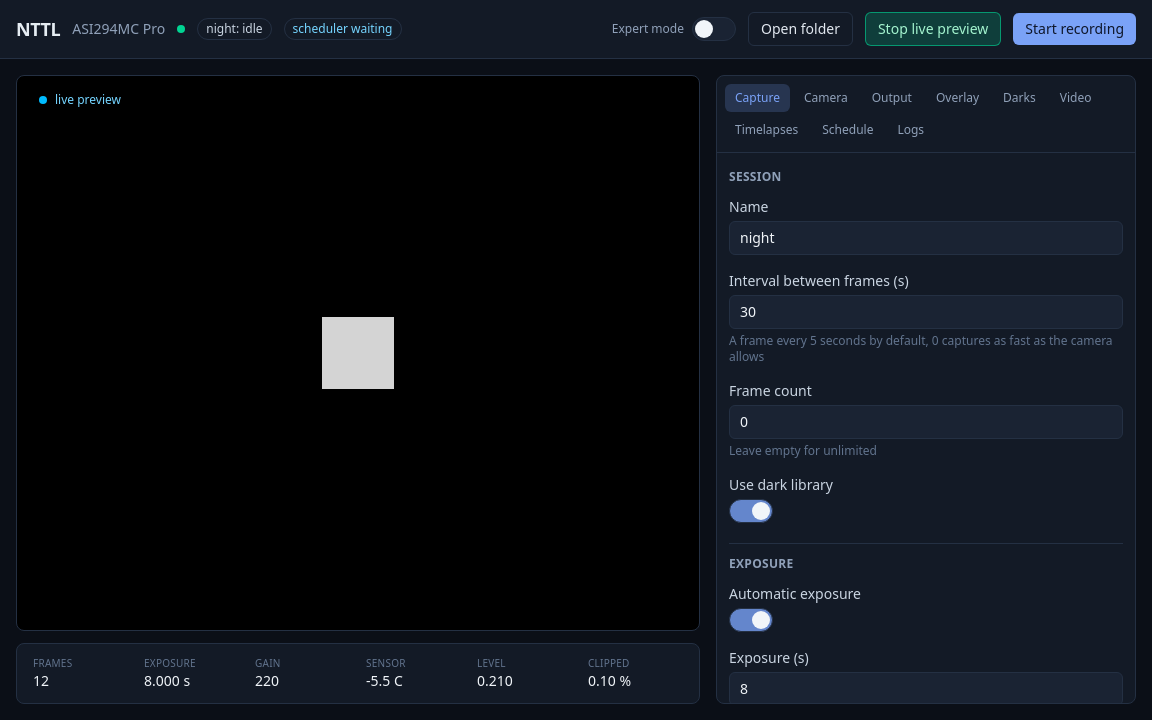
Test: App › hides expert fields until expert mode is on
Check: the text "ASI294MC Pro" is shown, box [72,19,165,39]
Check: the text "Priority" is not shown
What coordinates should you click on to do the following:
click the switch named "Expert mode"
I would click on:
 (714, 29)
Its box is [692,17,736,41].
(page scrolled)
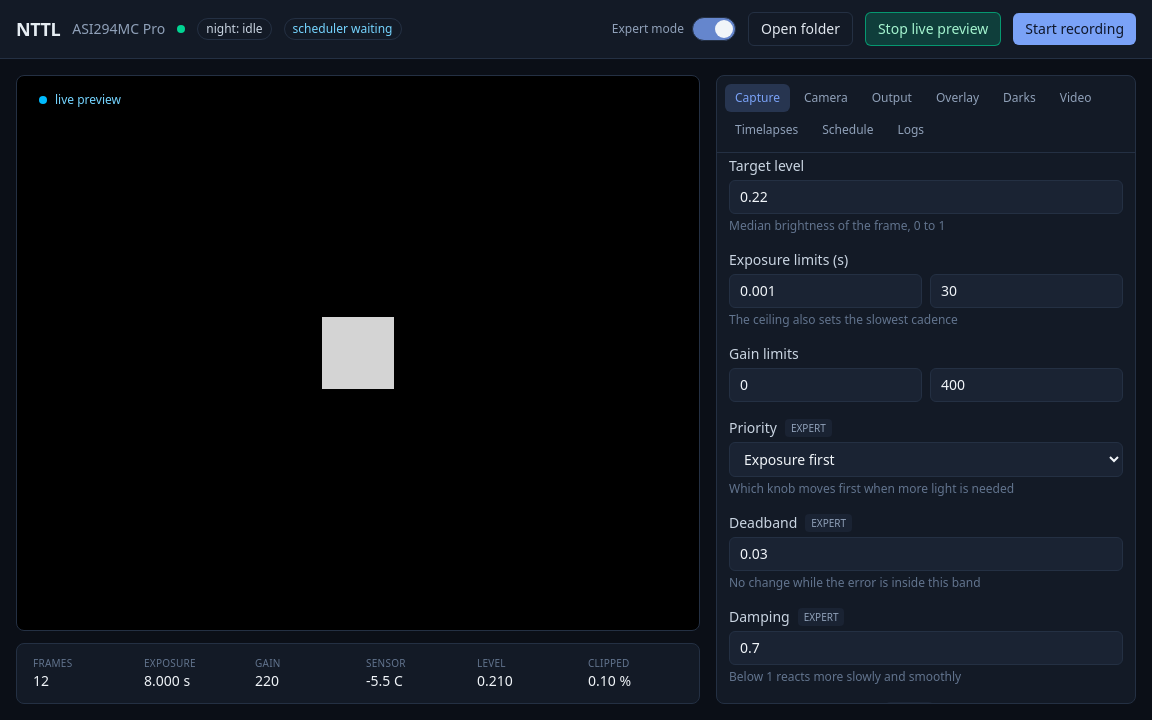
Check: the text "Priority" is shown, box [729,418,777,437]
